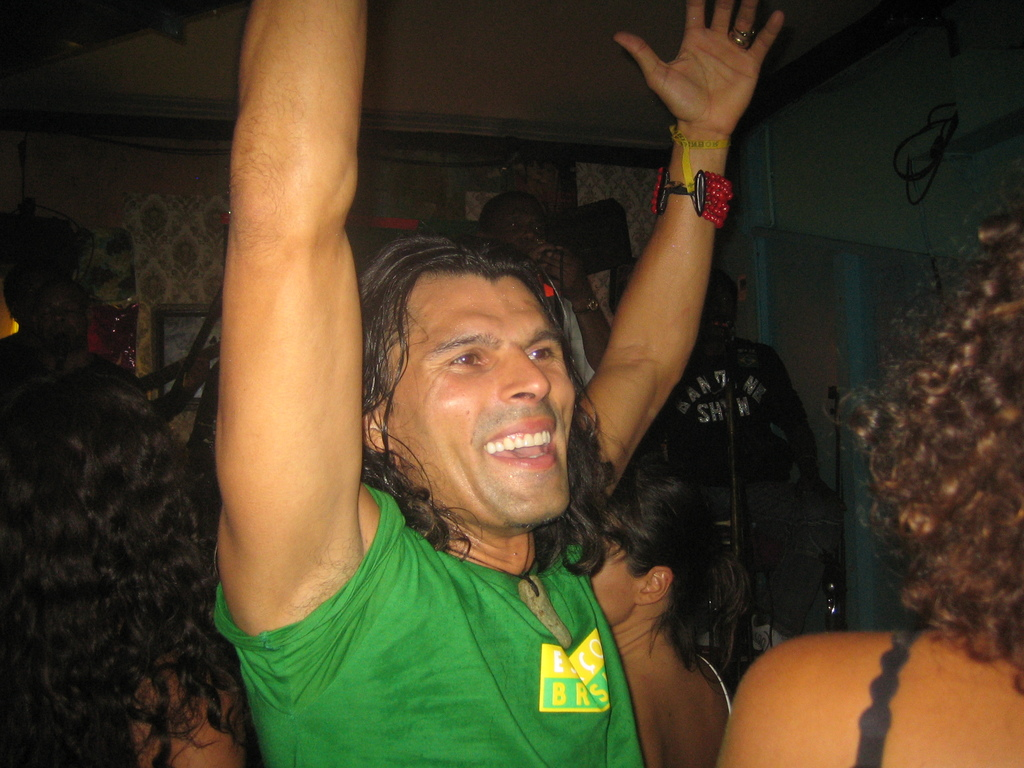Person: (0, 362, 252, 768), (591, 460, 732, 768), (468, 186, 608, 368), (5, 280, 206, 393)
